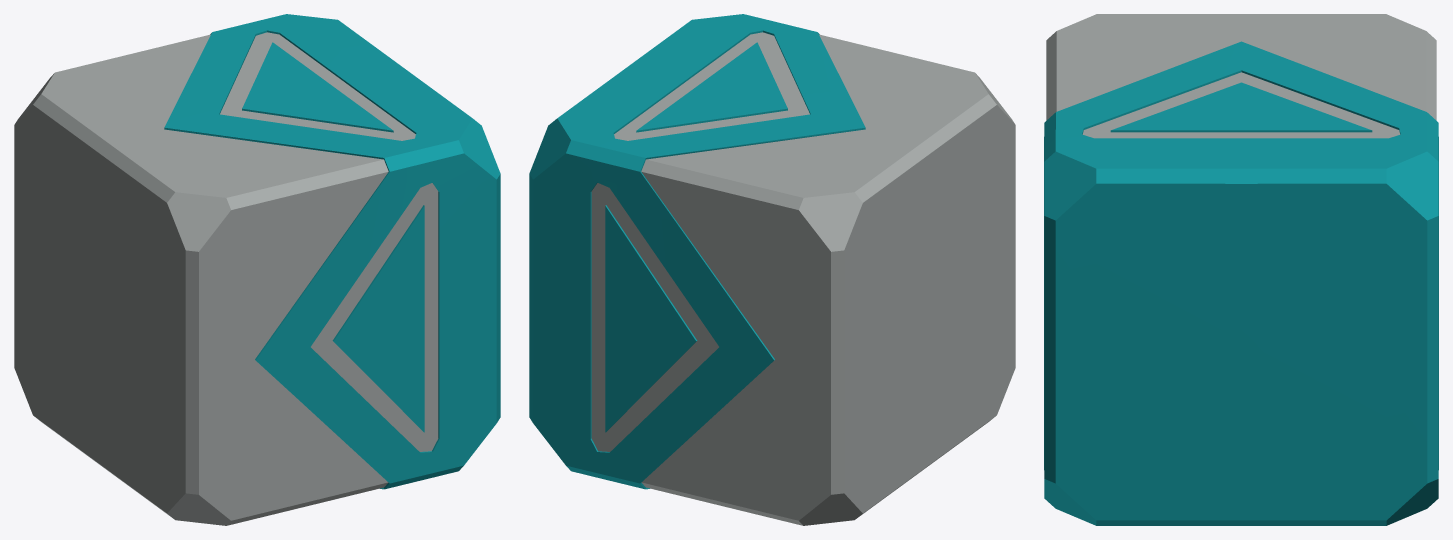
3 renders of one model, left to right at view 1: azimuth 30°, elevation 25°; view 2: azimuth 150°, elevation 25°; view 3: azimuth 270°, elevation 25°, orthographic. The views are drawn at different scales.
Visible parts, largest first — view 1: FK-01-1, FK-01-2; view 2: FK-01-1, FK-01-2; view 3: FK-01-2, FK-01-1.
Part boxes in pixels (box(x1,y1,x2,y2)): FK-01-1: box(14, 32, 438, 525); FK-01-2: box(164, 14, 500, 489); FK-01-1: box(591, 32, 1015, 525); FK-01-2: box(529, 14, 865, 489); FK-01-2: box(1044, 41, 1438, 525); FK-01-1: box(1046, 14, 1436, 138).
Bounding box in the file's own units: 9.91 × 9.98 × 9.98.
